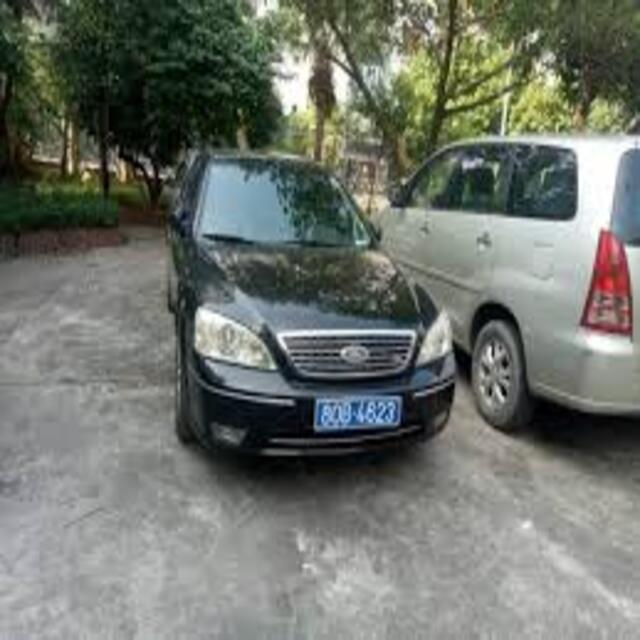car: (157, 147, 456, 472), (372, 127, 640, 433)
plate: (307, 389, 401, 441)
